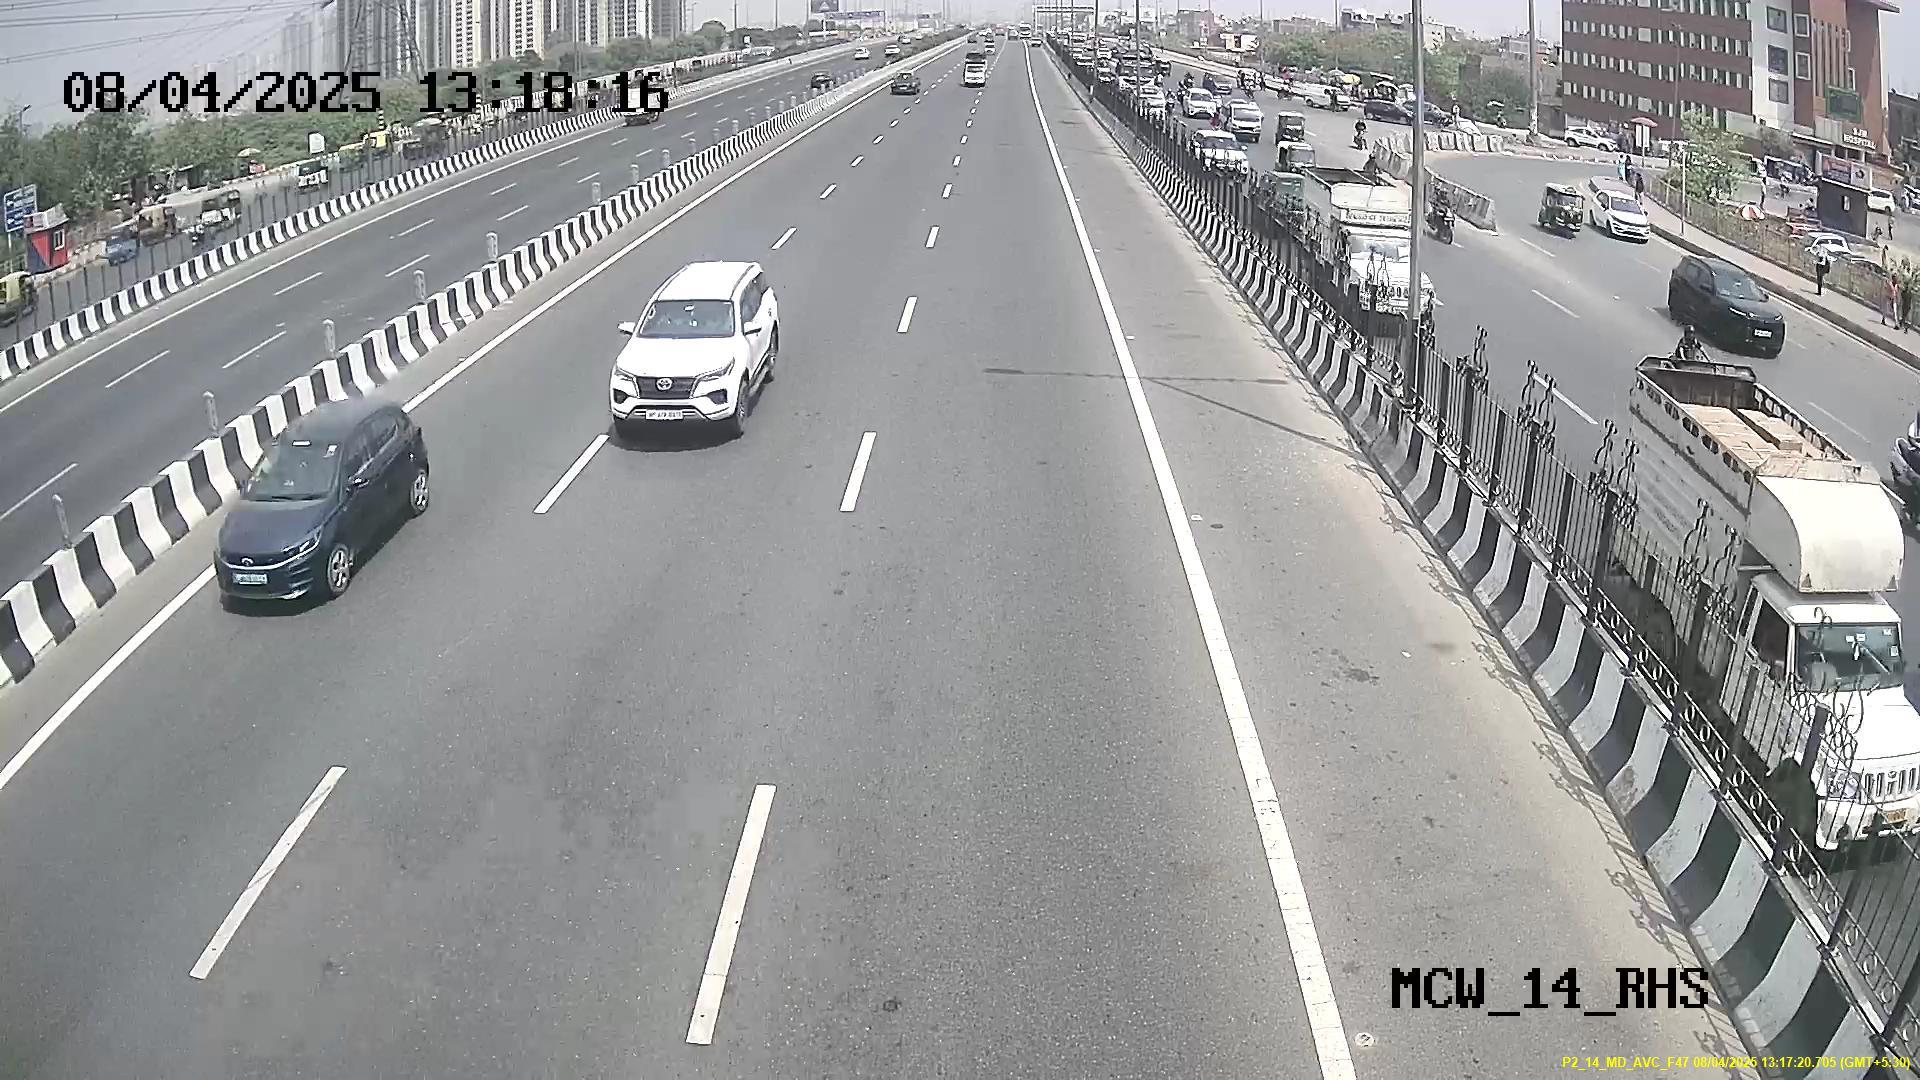car: (207, 414, 375, 618), (607, 277, 767, 436)
